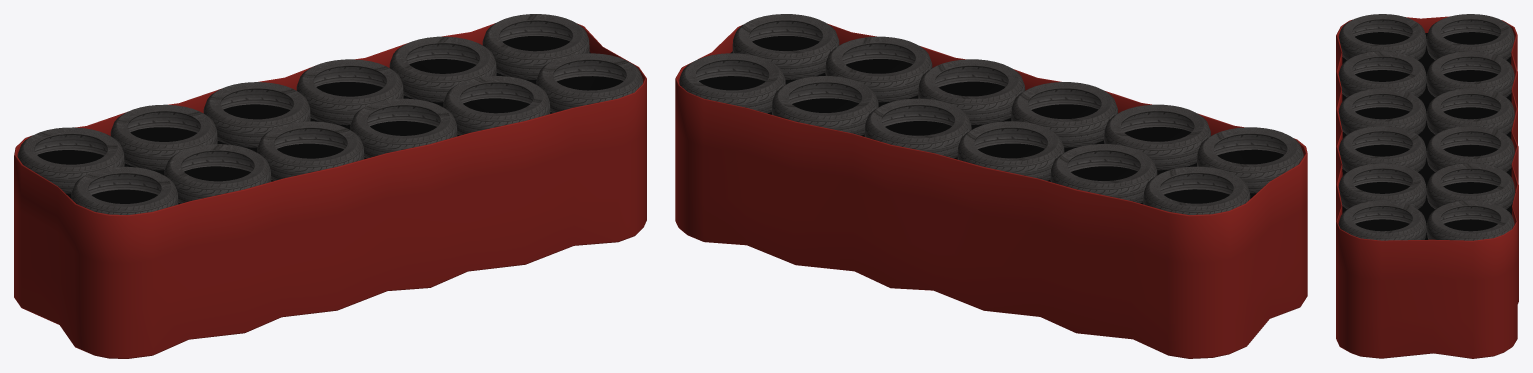
The model's file is barrier_tire.fbx.
The picture shows the model from 3 angles, left to right: view 1: azimuth 30°, elevation 25°; view 2: azimuth 150°, elevation 25°; view 3: azimuth 270°, elevation 25°; orthographic projection. The views are drawn at different scales.
Visible parts, largest first — view 1: barrier_tyre.002; view 2: barrier_tyre.002; view 3: barrier_tyre.002.
Part boxes in pixels (left/top/right/bottom): barrier_tyre.002: left=14, top=14, right=646, bottom=358; barrier_tyre.002: left=675, top=14, right=1307, bottom=358; barrier_tyre.002: left=1336, top=14, right=1518, bottom=358.
Bounding box in the file's own units: 508 × 128 × 173.
